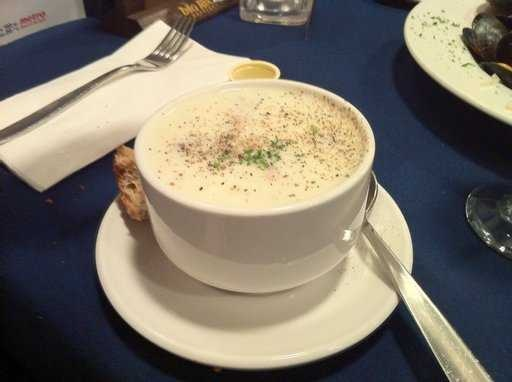soup: (130, 80, 381, 238)
